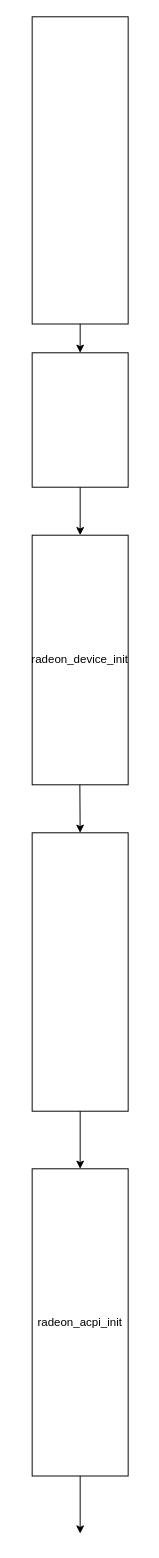
Some shapes in this 159 by 1558 pixel diagram are drawn without their labels. Each missing label, with the centre of its shape:
"radeon_driver_load_kms" goes at point 79,170.
"radeon_modeset_init" goes at point 79,971.
